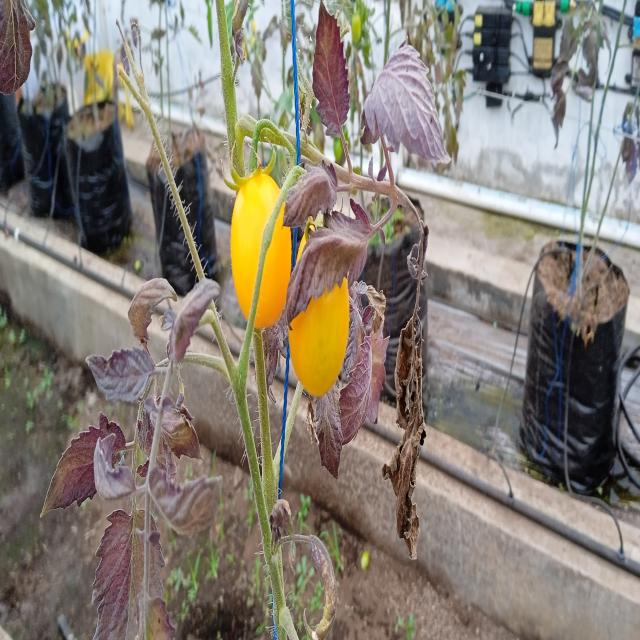fine: (220, 162, 302, 333), (298, 254, 358, 386)
